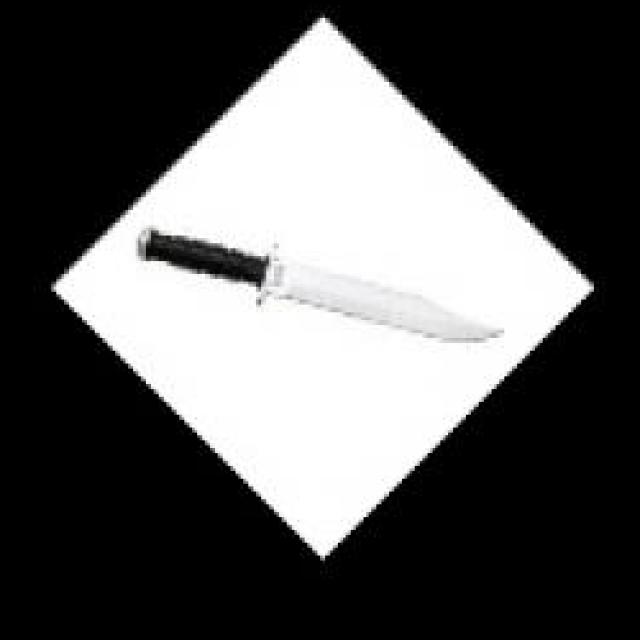knife: (135, 218, 510, 346)
